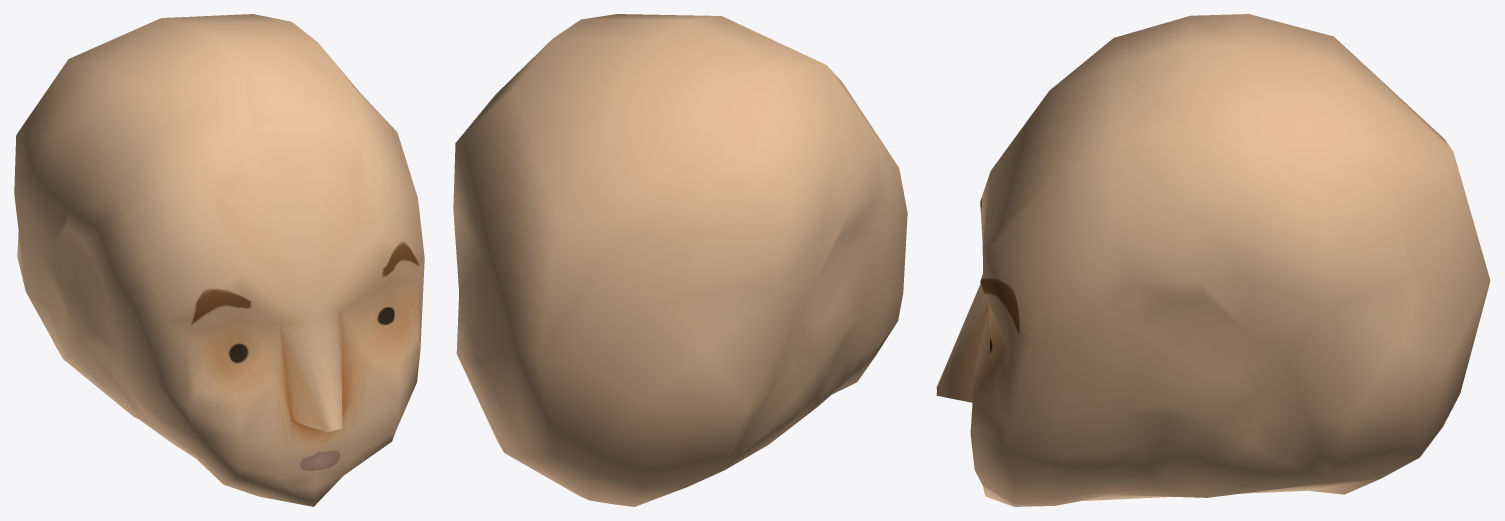
Rendered from cabeca.obj.
The picture shows the model from 3 angles, left to right: view 1: azimuth 30°, elevation 25°; view 2: azimuth 150°, elevation 25°; view 3: azimuth 270°, elevation 25°; orthographic projection. The views are drawn at different scales.
Parts seen in each view (by area): view 1: objheadusOBJexport; view 2: objheadusOBJexport; view 3: objheadusOBJexport.
Boxes of the visible parts, x1,y1,x2,y2 form: objheadusOBJexport: (14, 14, 424, 506); objheadusOBJexport: (453, 14, 907, 506); objheadusOBJexport: (936, 14, 1490, 506).
Bounding box in the file's own units: 232 × 295 × 322.
